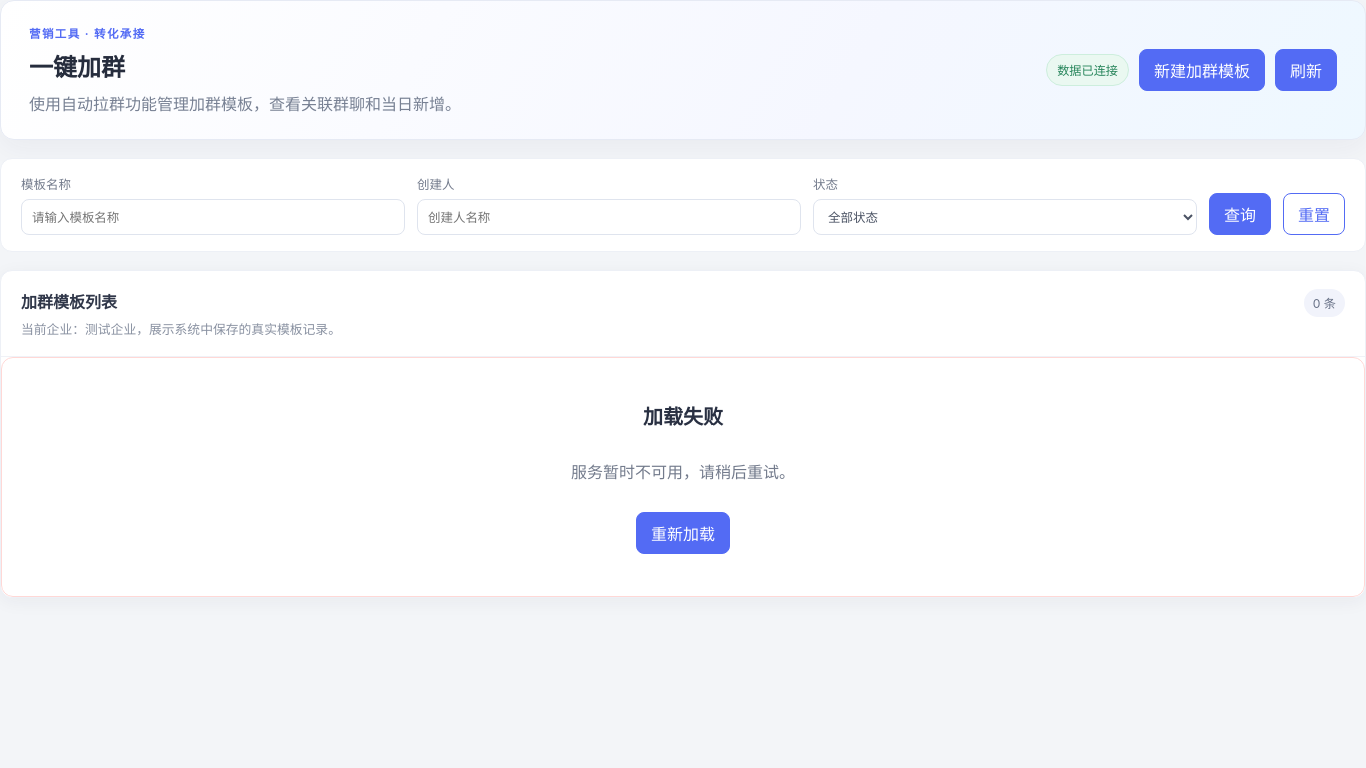
Test: Phase 3.4 conversion pages › shows group-template provider details and supports retry
Expected: the heading "加载失败" is shown, x1=643 y1=400 x2=723 y2=430
What coordinates should you click on to do the following:
click the button "重新加载"
I would click on:
 (683, 532)
Its box is x1=636 y1=512 x2=730 y2=554.
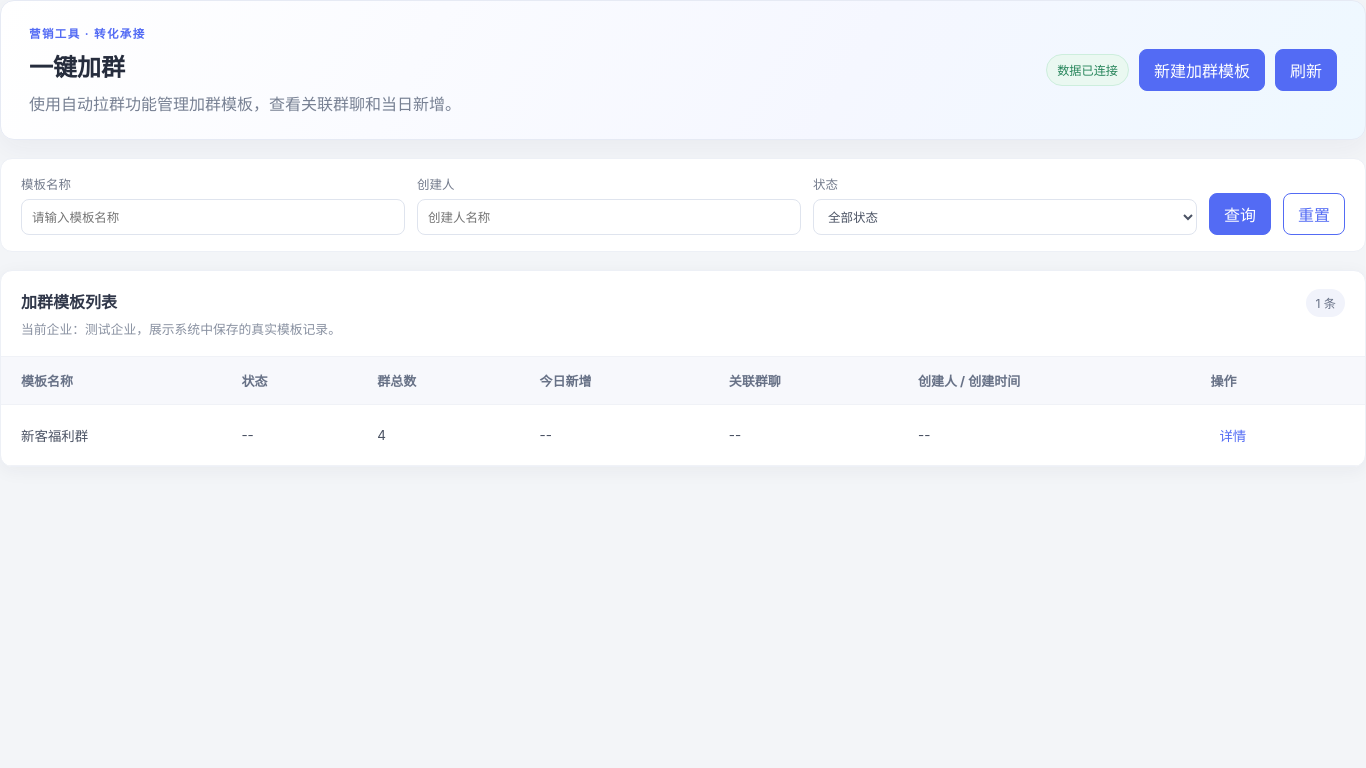
Result: the text "新客福利群" is shown at x1=1 y1=404 x2=221 y2=466
What coordinates should you click on to do the following:
click the button "详情"
I would click on:
 (1233, 435)
Its box is x1=1210 y1=419 x2=1255 y2=451.
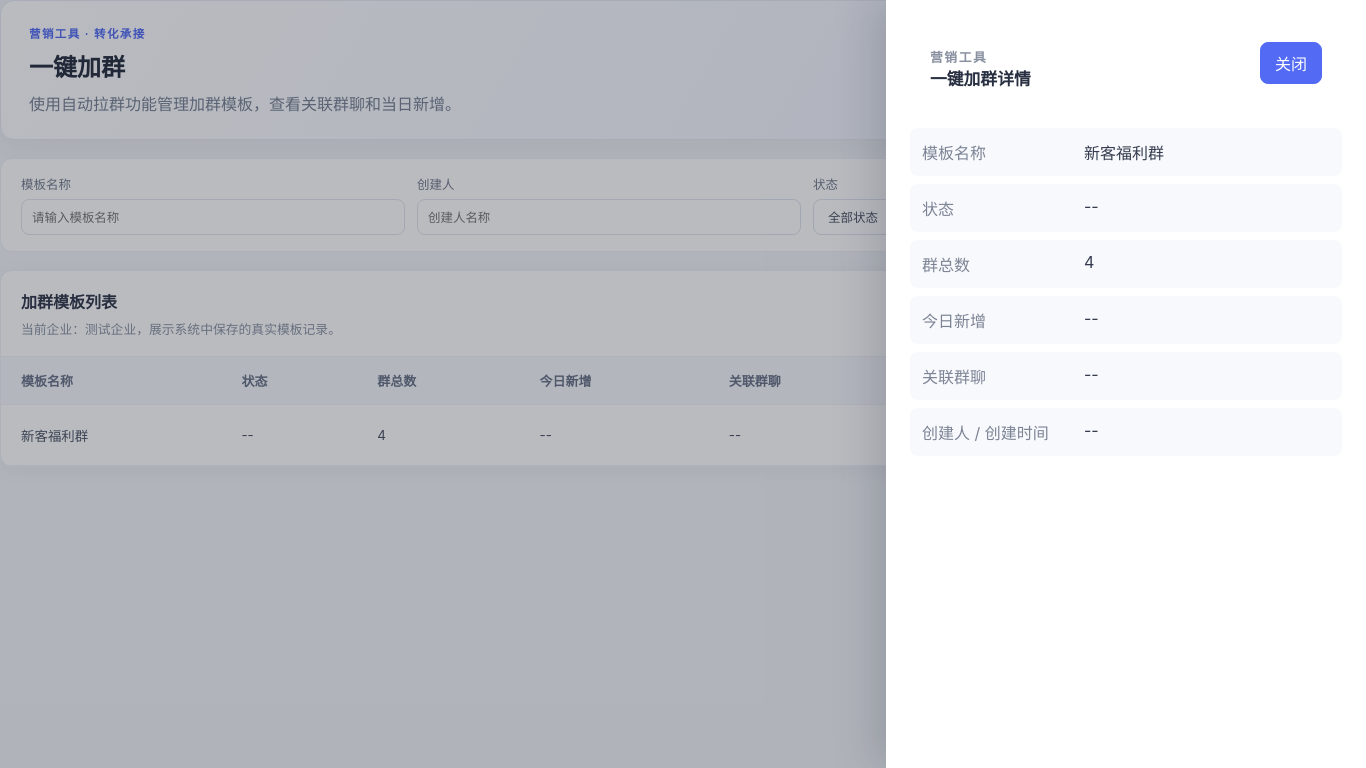
Result: the element labelled "一键加群详情" shows "群总数" at x1=922 y1=255 x2=970 y2=275
Result: the element labelled "一键加群详情" shows "4" at x1=1084 y1=252 x2=1094 y2=272
